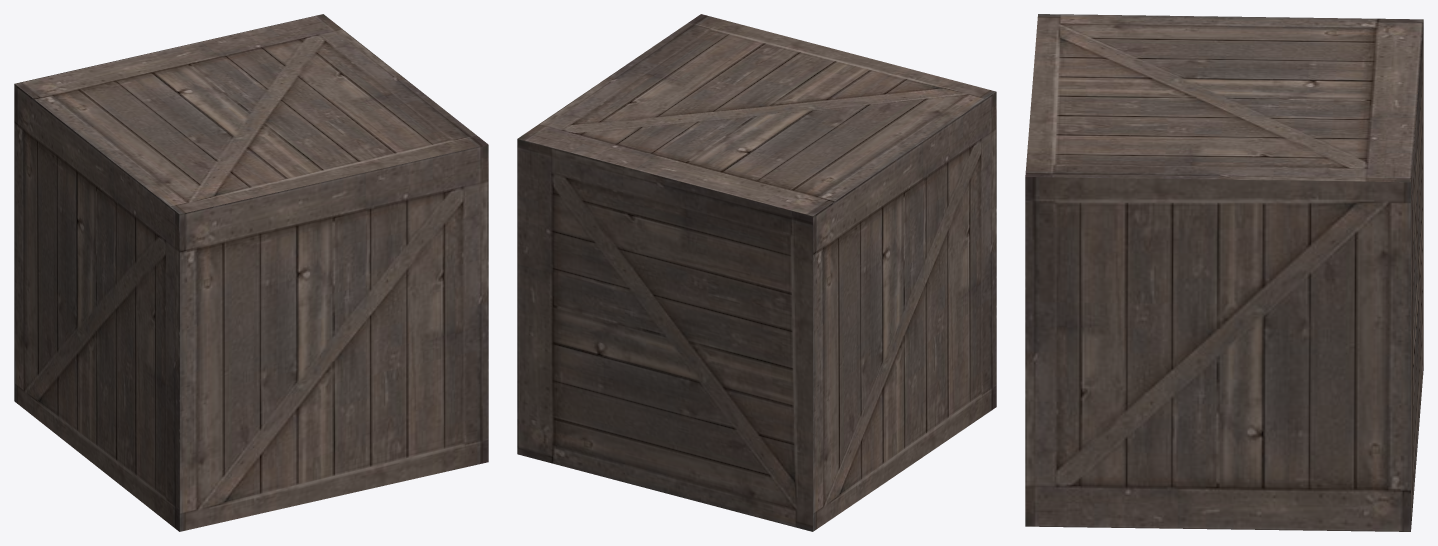
Rendered from crate.glb.
3 views of the same model, side by side, from view 1: azimuth 30°, elevation 25°; view 2: azimuth 150°, elevation 25°; view 3: azimuth 270°, elevation 25° (orthographic). The views are drawn at different scales.
Visible parts, largest first — view 1: Crate.001; view 2: Crate.001; view 3: Crate.001.
Boxes of the visible parts, x1,y1,x2,y2 form: Crate.001: (14,14,488,531); Crate.001: (517,14,996,531); Crate.001: (1025,14,1423,531).
Size of the model in its own units: 0.9853 by 0.9544 by 0.9853.
1 material, 1 textured.
